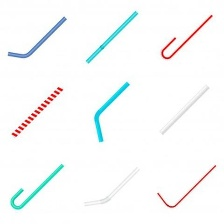drinking_straw: (82, 6, 143, 66), (7, 82, 68, 141), (154, 81, 214, 140), (5, 159, 69, 214), (152, 160, 221, 211), (3, 13, 71, 63), (89, 78, 135, 146), (156, 11, 216, 63), (78, 163, 142, 210)
